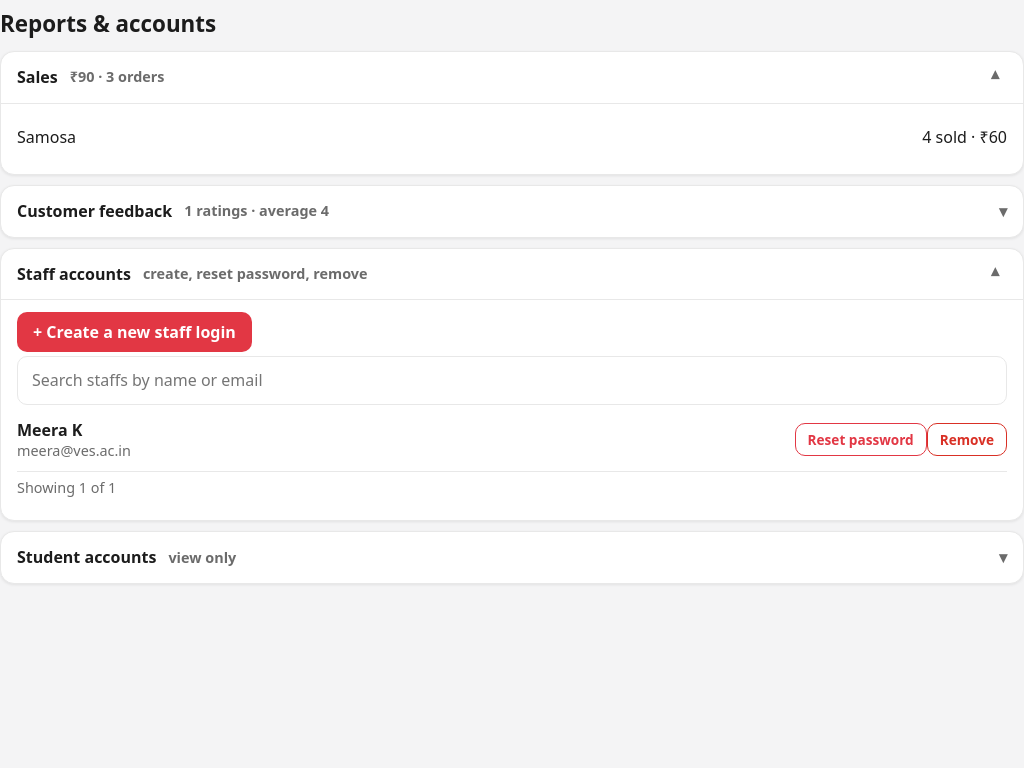
Test: owner accounts screen › creates a staff login and shows the password once
This screenshot has width=1024, height=768.
Expected: the text "Meera K" is shown, 17,419 -> 82,441
Expected: the button "Reset password" is shown, 795,424 -> 927,456
Click the button "+ Create a new staff login" at point(134, 332), box 17,312 -> 252,352
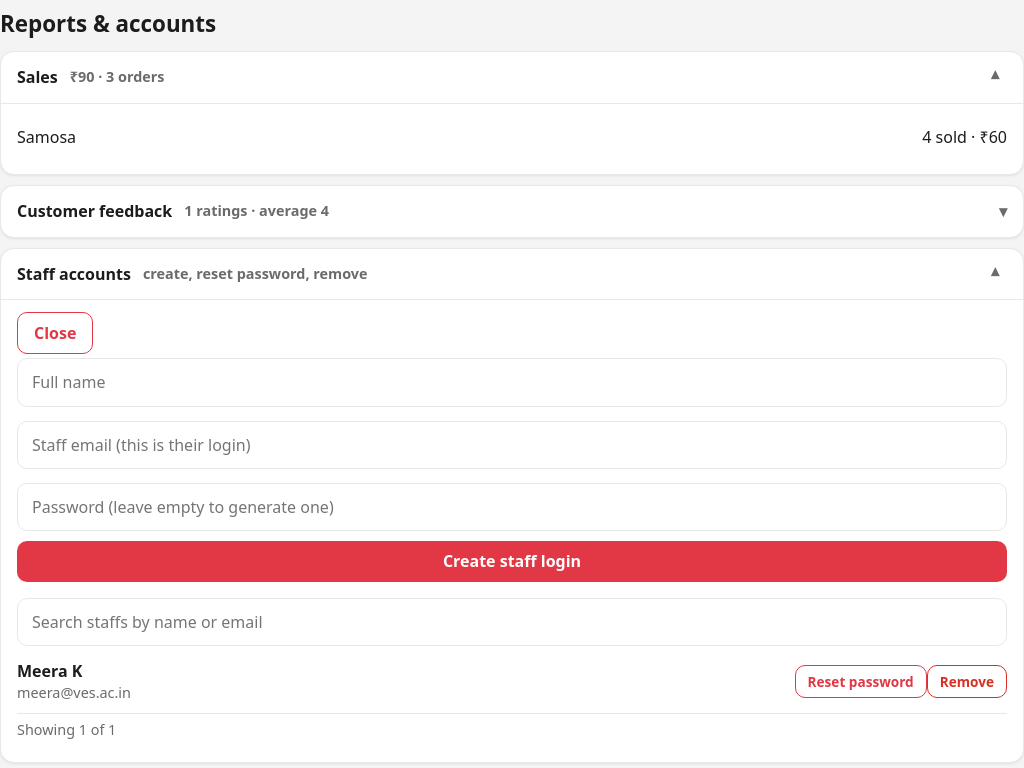
Type "New Cook" into the field with placeholder "Full name" at point(512, 382), box 17,358 -> 1007,407
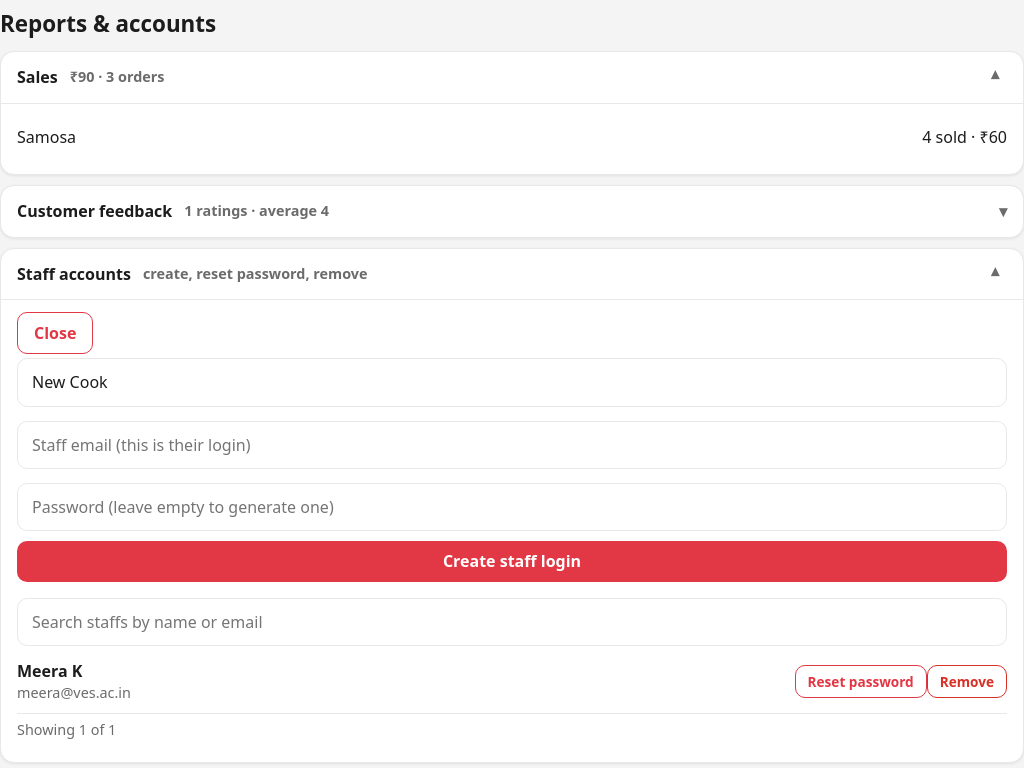
Type "cook@ves.ac.in" into the field with placeholder "Staff email (this is their login)" at point(512, 445), box 17,421 -> 1007,469
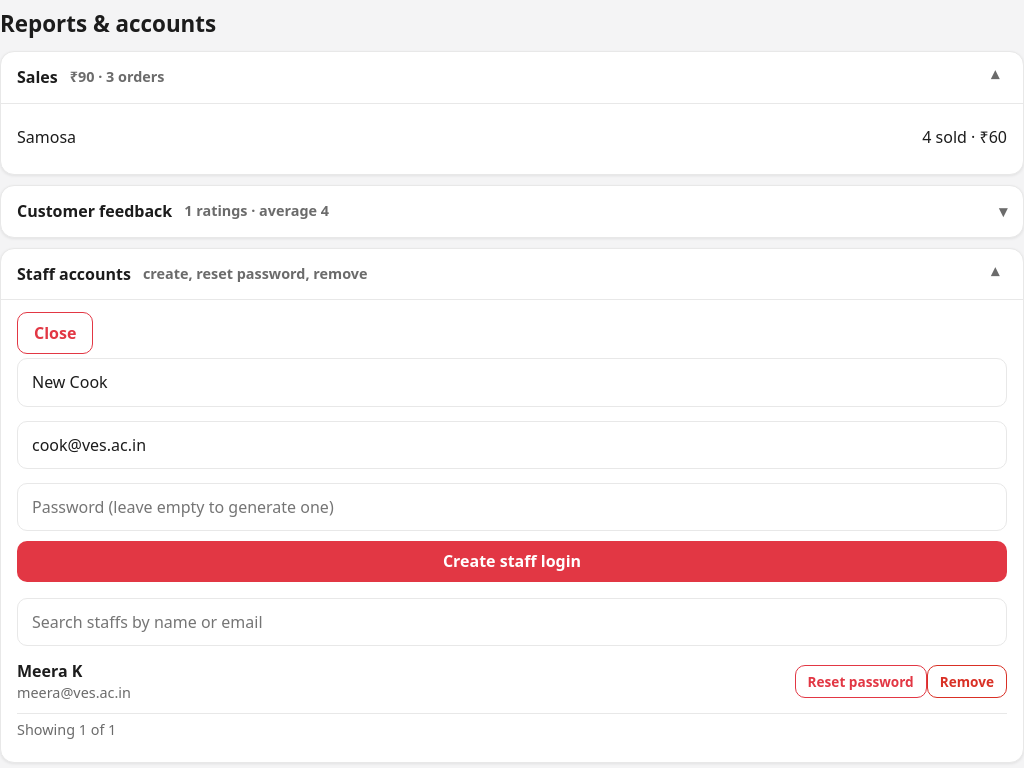
Click the button "Create staff login" at point(512, 562), box 17,542 -> 1007,582
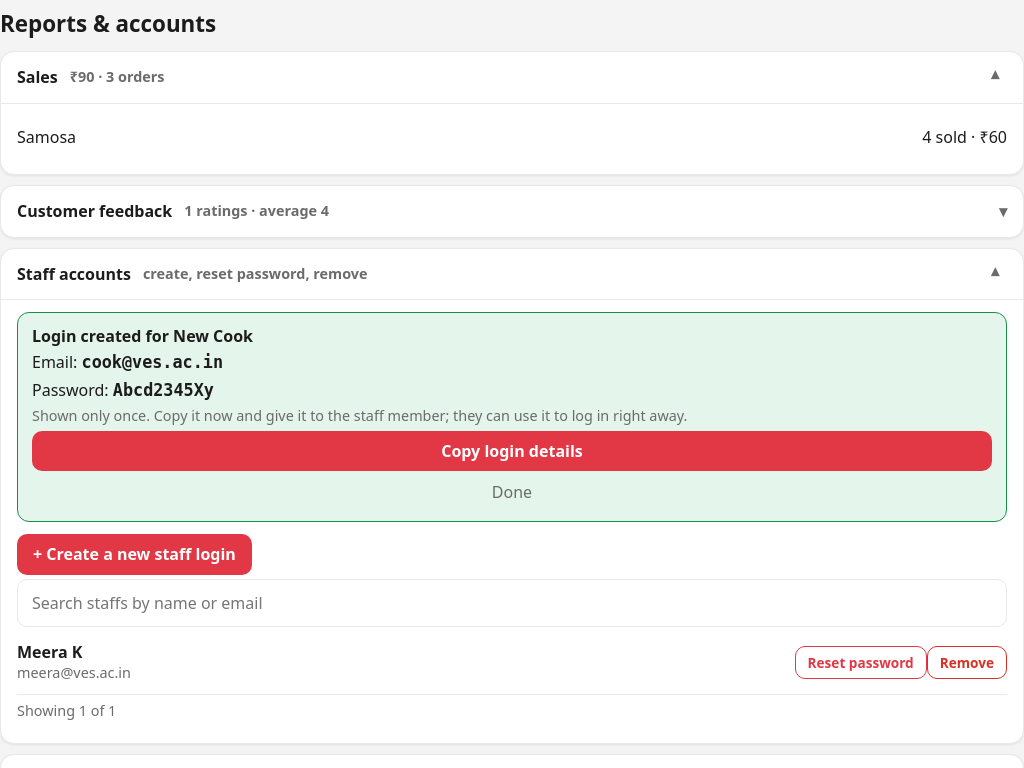
Result: the text "Abcd2345Xy" is shown at 113,380 -> 214,400
Result: the text "Shown only once" is shown at 32,406 -> 687,425
